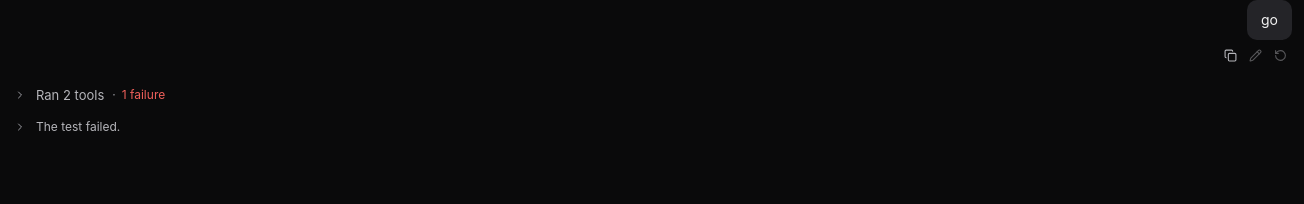
Test case: AgentTimeline › badges a failed group and keeps its output folded until opened
Expected: the text "1 failure" is shown, [112,86,165,104]
Expected: the text "npm test" is not shown
Click the button "Ran 2 tools 1 failure" at point(70, 95), box [12,81,1292,109]
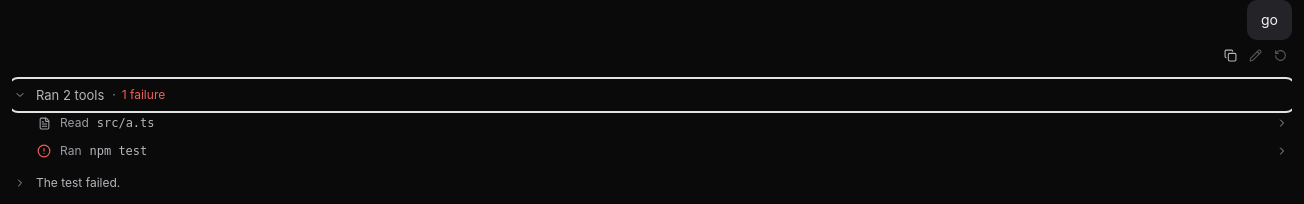
Result: the text "npm test" is shown at [90,142,147,160]
